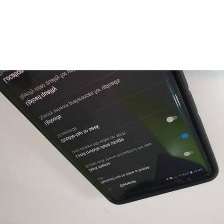phone: (0, 19, 221, 207)
